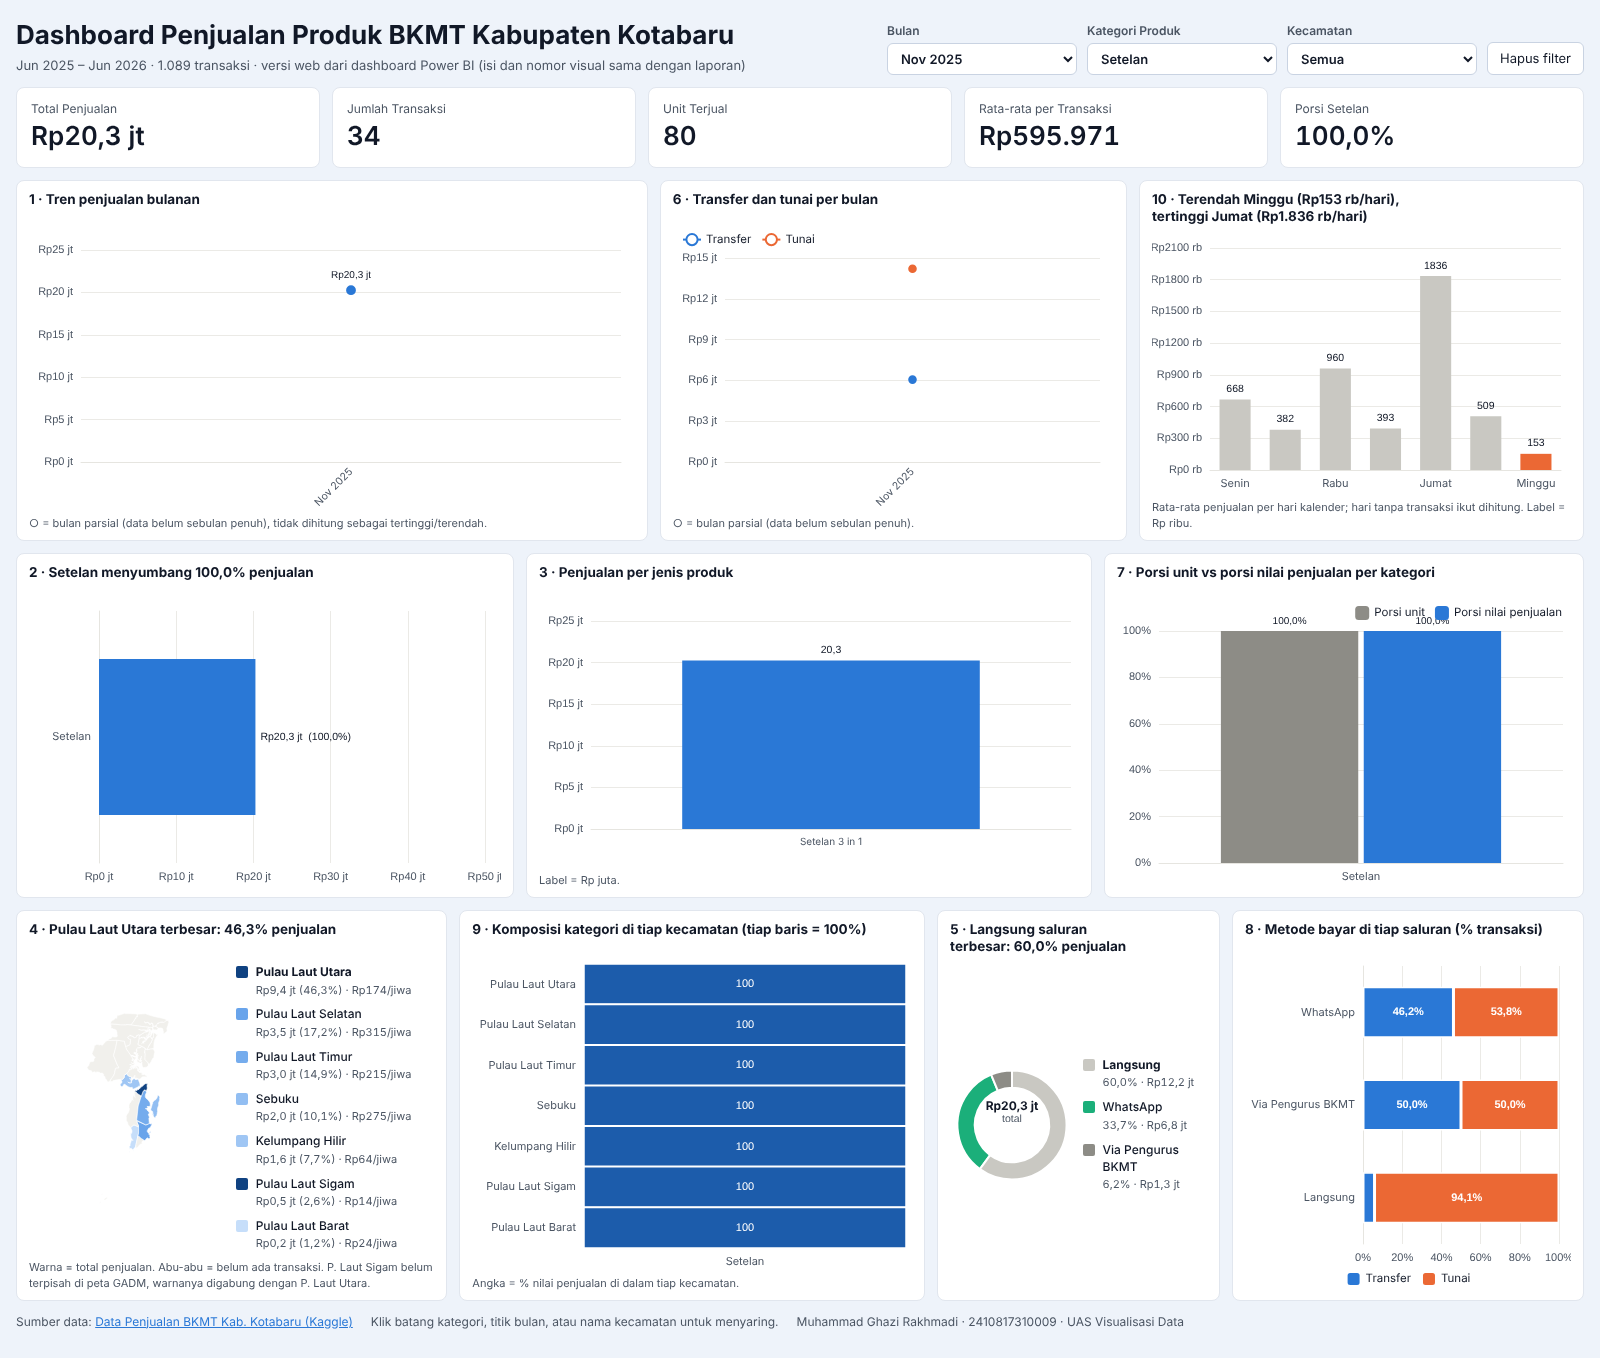

Layout of this report page (visuals, bound fields, positions):
{"tool":"powerbi","page":{"name":"Halaman 1","canvas":[1920,1080],"ordinal":0},"visuals":[{"type":"pythonVisual","fields":{"Values":["Penjualan.Kategori Produk","Penjualan.Total Penjualan"]},"box":[54.3,485.7,562.9,280],"z":0},{"type":"pythonVisual","fields":{"Values":["Kalender.Bulan","Kalender.Bulan Parsial","Penjualan.Total Penjualan"]},"box":[54.3,194.3,720,280],"z":1000},{"type":"pythonVisual","fields":{"Values":["Penjualan.Jenis Produk","Penjualan.Total Penjualan"]},"box":[632,486,680,280],"z":2000},{"type":"pythonVisual","fields":{"Values":["Penjualan.Kecamatan","Kecamatan.Nama Peta","Penjualan.Total Penjualan","Penjualan.Penduduk"]},"box":[54.3,778.6,480,280],"z":3000},{"type":"pythonVisual","fields":{"Values":["Penjualan.Saluran Penjualan","Penjualan.Total Penjualan"]},"box":[1124.3,778.6,341.4,280],"z":4000},{"type":"pythonVisual","fields":{"Values":["Kalender.Bulan","Kalender.Bulan Parsial","Penjualan.Metode Pembayaran","Penjualan.Total Penjualan"]},"box":[791.4,194.3,560,280],"z":5000},{"type":"pythonVisual","fields":{"Values":["Penjualan.Kategori Produk","Penjualan.Unit Terjual","Penjualan.Total Penjualan"]},"box":[1324.3,485.7,576,280],"z":6000},{"type":"pythonVisual","fields":{"Values":["Penjualan.Saluran Penjualan","Penjualan.Metode Pembayaran","Penjualan.Jumlah Transaksi"]},"box":[1476,778,424,280],"z":7000},{"type":"pythonVisual","fields":{"Values":["Kecamatan.Kecamatan","Penjualan.Kategori Produk","Penjualan.Total Penjualan"]},"box":[552,778,560,280],"z":8000},{"type":"pythonVisual","fields":{"Values":["Kalender.Hari","Penjualan.Penjualan per Hari"]},"box":[1364,194,536,280],"z":9000},{"type":"cardVisual","fields":{"Data":["Penjualan.Total Penjualan"]},"box":[54.3,85.7,366,90],"z":10000},{"type":"cardVisual","fields":{"Data":["Kalender.Jumlah Transaksi Teks"]},"box":[425.7,85.7,366,90],"z":11000},{"type":"cardVisual","fields":{"Data":["Kalender.Rata-rata per Transaksi"]},"box":[1181.4,85.7,366,90],"z":12000},{"type":"cardVisual","fields":{"Data":["Kalender.Porsi Setelan %"]},"box":[1554.3,85.7,345.7,90],"z":13000},{"type":"cardVisual","fields":{"Data":["Kalender.Unit Terjual Teks"]},"box":[804.3,85.7,366,90],"z":14000},{"type":"textbox","box":[54.3,20,1017.1,60],"z":15000},{"type":"slicer","fields":{"Values":["Kecamatan.Kecamatan"]},"box":[1647.1,20,252.9,60],"z":16000},{"type":"slicer","fields":{"Values":["Penjualan.Kategori Produk"]},"box":[1402.9,20,244.3,60],"z":17000},{"type":"slicer","fields":{"Values":["Kalender.Bulan"]},"box":[1158.6,20,244.3,60],"z":17001}]}

Visuals, with their boxes on the page's 1920x1080 design canvas (x1, y1, x2, y2). These are canvas units, not pixel positions in the 1600x1358 screenshot, which may show the page scaled, cropped or inside an application window:
pythonVisual - Penjualan.Kategori Produk x Penjualan.Total Penjualan: (54,486,617,766)
pythonVisual - Kalender.Bulan x Kalender.Bulan Parsial: (54,194,774,474)
pythonVisual - Penjualan.Jenis Produk x Penjualan.Total Penjualan: (632,486,1312,766)
pythonVisual - Penjualan.Kecamatan x Kecamatan.Nama Peta: (54,779,534,1059)
pythonVisual - Penjualan.Saluran Penjualan x Penjualan.Total Penjualan: (1124,779,1466,1059)
pythonVisual - Kalender.Bulan x Kalender.Bulan Parsial: (791,194,1351,474)
pythonVisual - Penjualan.Kategori Produk x Penjualan.Unit Terjual: (1324,486,1900,766)
pythonVisual - Penjualan.Saluran Penjualan x Penjualan.Metode Pembayaran: (1476,778,1900,1058)
pythonVisual - Kecamatan.Kecamatan x Penjualan.Kategori Produk: (552,778,1112,1058)
pythonVisual - Kalender.Hari x Penjualan.Penjualan per Hari: (1364,194,1900,474)
cardVisual - Penjualan.Total Penjualan: (54,86,420,176)
cardVisual - Kalender.Jumlah Transaksi Teks: (426,86,792,176)
cardVisual - Kalender.Rata-rata per Transaksi: (1181,86,1547,176)
cardVisual - Kalender.Porsi Setelan %: (1554,86,1900,176)
cardVisual - Kalender.Unit Terjual Teks: (804,86,1170,176)
textbox: (54,20,1071,80)
slicer - Kecamatan.Kecamatan: (1647,20,1900,80)
slicer - Penjualan.Kategori Produk: (1403,20,1647,80)
slicer - Kalender.Bulan: (1159,20,1403,80)
